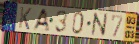0: (71, 11, 85, 35)
3: (54, 10, 68, 33)
7: (110, 13, 124, 38)
A: (31, 8, 51, 32)
K: (18, 6, 33, 31)
N: (90, 12, 109, 37)
